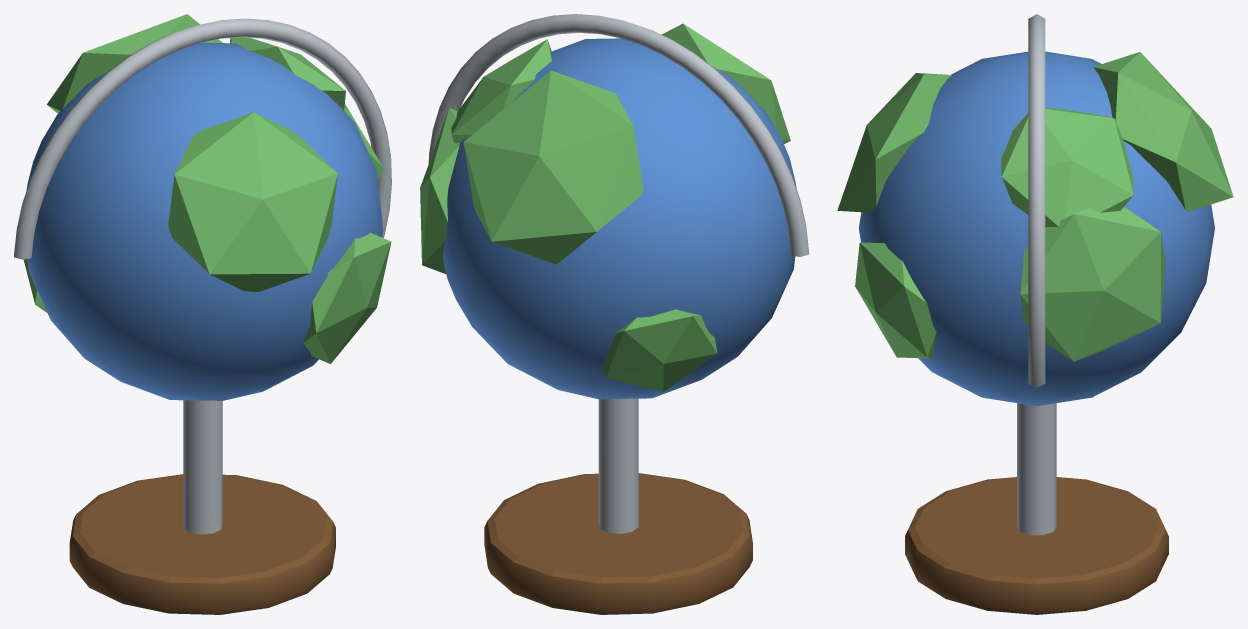
The model's file is globo.glb.
3 views of the same model, side by side, from view 1: azimuth 30°, elevation 25°; view 2: azimuth 150°, elevation 25°; view 3: azimuth 270°, elevation 25° (orthographic). The views are drawn at different scales.
Visible parts, largest first — view 1: globo; view 2: globo; view 3: globo.
Boxes of the visible parts, x1,y1,x2,y2 form: globo: [14, 14, 391, 614]; globo: [420, 14, 808, 614]; globo: [837, 14, 1233, 614].
Size of the model in its own units: 0.6494 by 0.8849 by 0.6007.
